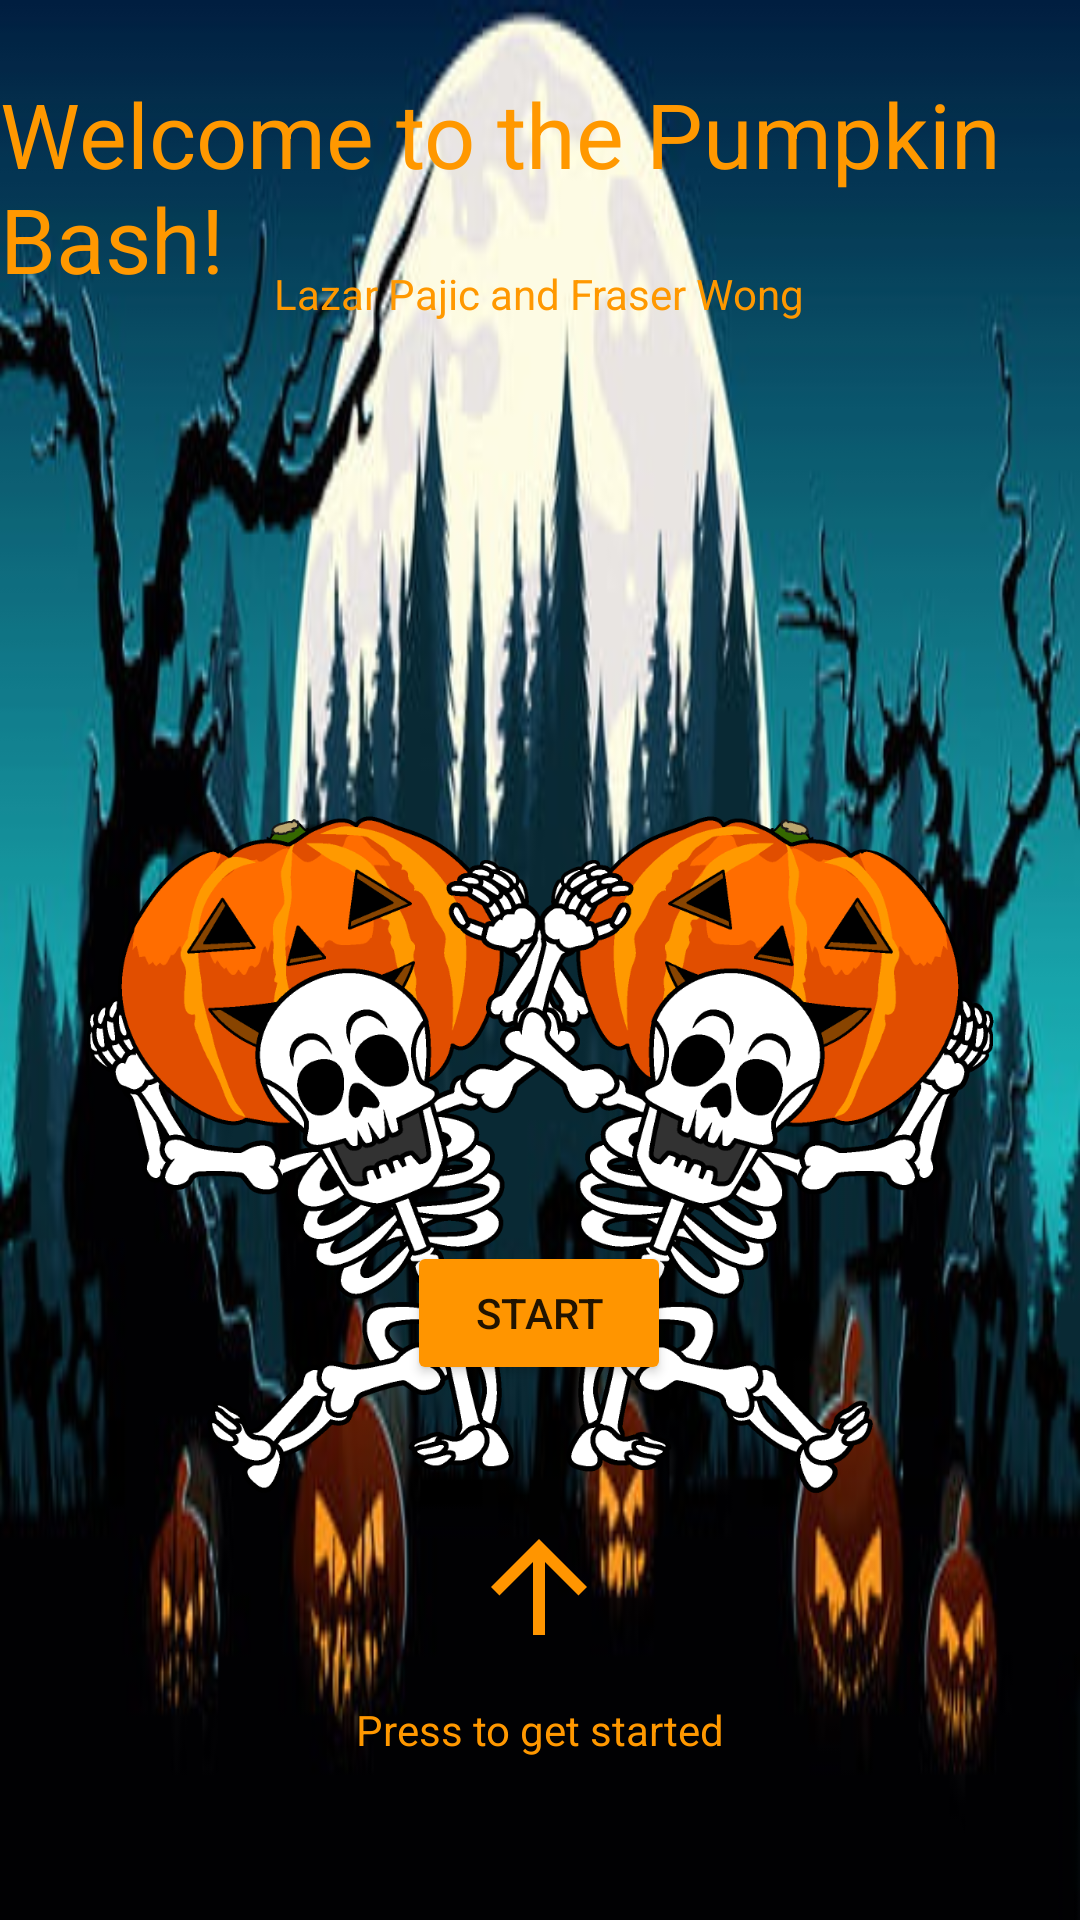

Icon click points for this 1080 x 1920 phone screenshot, format (x,y):
arrow upward: (539,1587)
